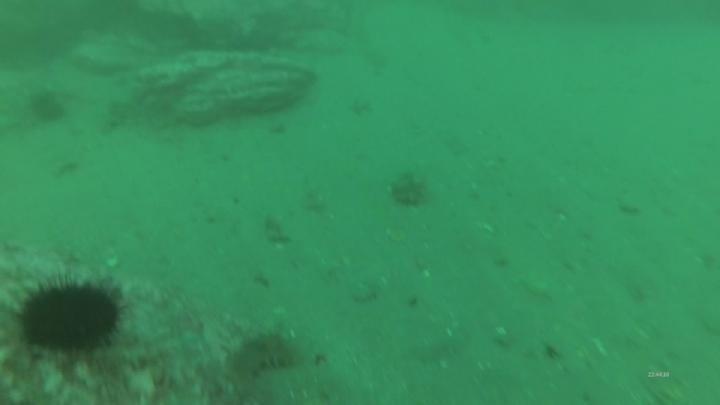echinus: (15, 271, 126, 360), (26, 87, 68, 127)
holothurian: (217, 328, 300, 399)
